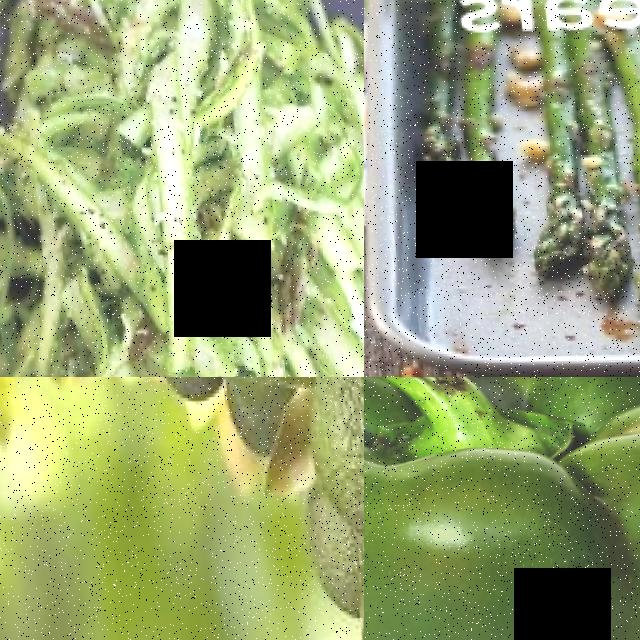avocado: (284, 377, 364, 530), (284, 470, 364, 619), (140, 377, 223, 400)
bell pepper: (364, 377, 640, 640)
